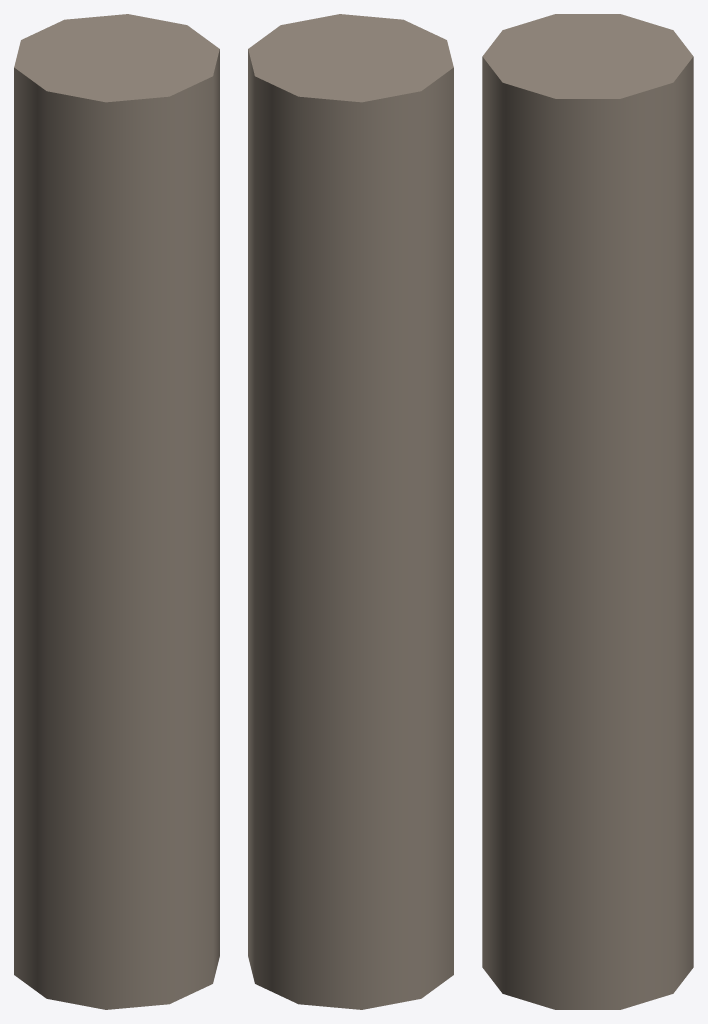
File: w01_winter_hut_log_source_v1.glb
The picture shows the model from 3 angles, left to right: view 1: azimuth 30°, elevation 25°; view 2: azimuth 150°, elevation 25°; view 3: azimuth 270°, elevation 25°; orthographic projection.
Parts seen in each view (by area): view 1: W01WinterHutLog; view 2: W01WinterHutLog; view 3: W01WinterHutLog.
Part boxes in pixels (bbox=[...]): W01WinterHutLog: bbox=[14, 14, 219, 1009]; W01WinterHutLog: bbox=[248, 14, 453, 1009]; W01WinterHutLog: bbox=[482, 14, 693, 1009].
Bounding box in the file's own units: 0.1997 × 1 × 0.21.
